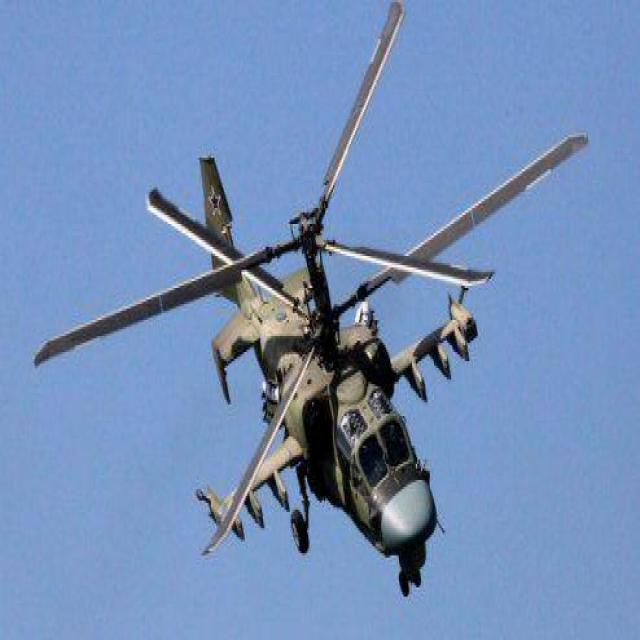MIL_HELO: (24, 0, 593, 601)
